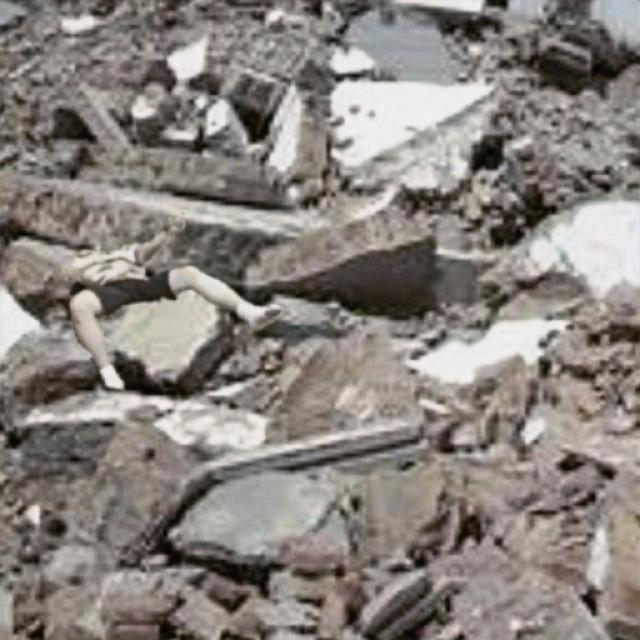Person in Rubble: (60, 210, 280, 389)
